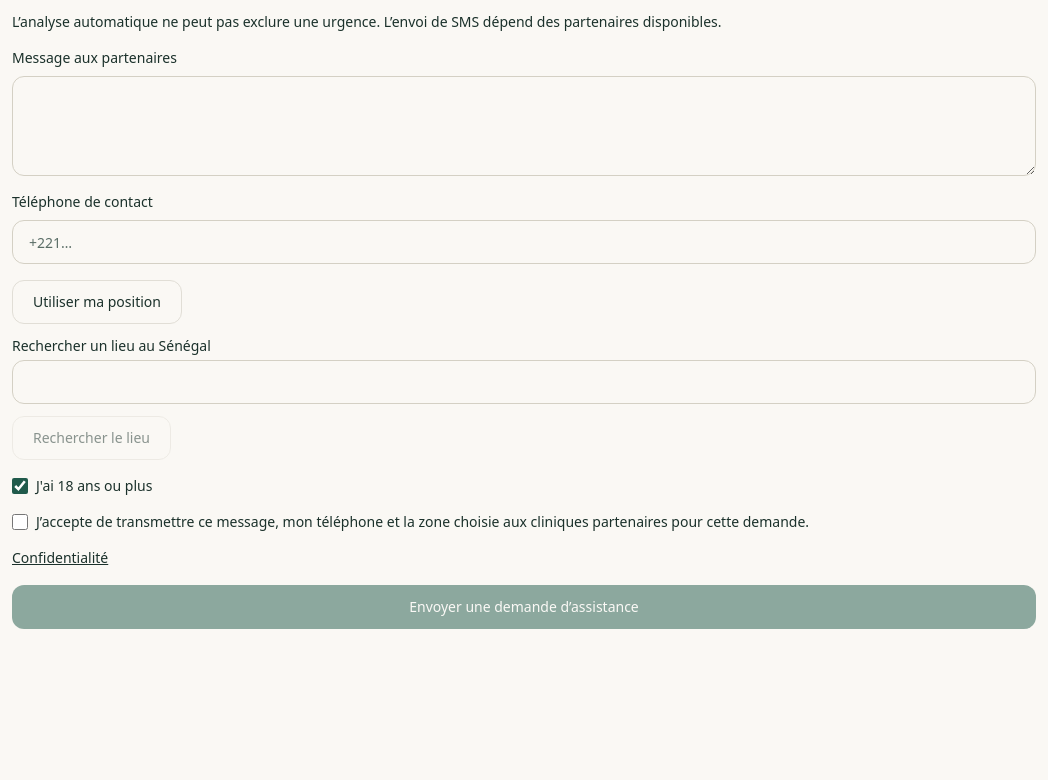
Test: patient emergency notification wording › reports accepted messages as unconfirmed rather than delivered
Type "Test" into the text box labelled "Message aux partenaires". click: coordinates (524, 126)
box: x1=12 y1=76 x2=1036 y2=176
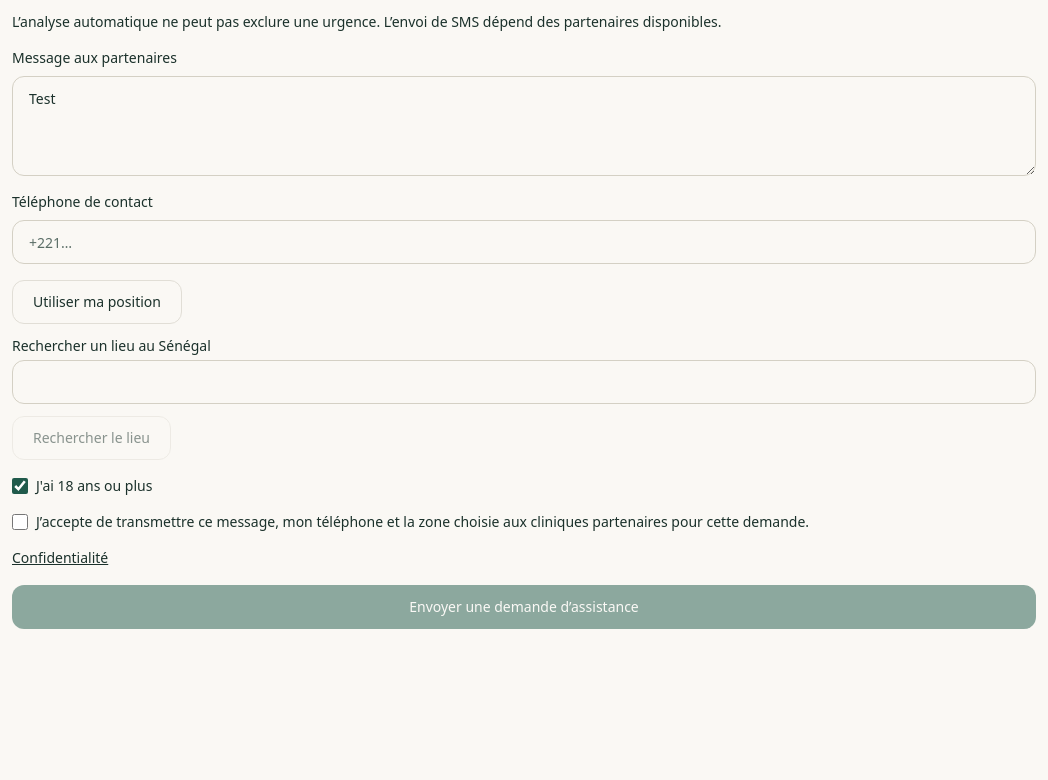
Type "+221771234567" into the field labelled "Téléphone de contact". click: coordinates (524, 242)
box: x1=12 y1=220 x2=1036 y2=264
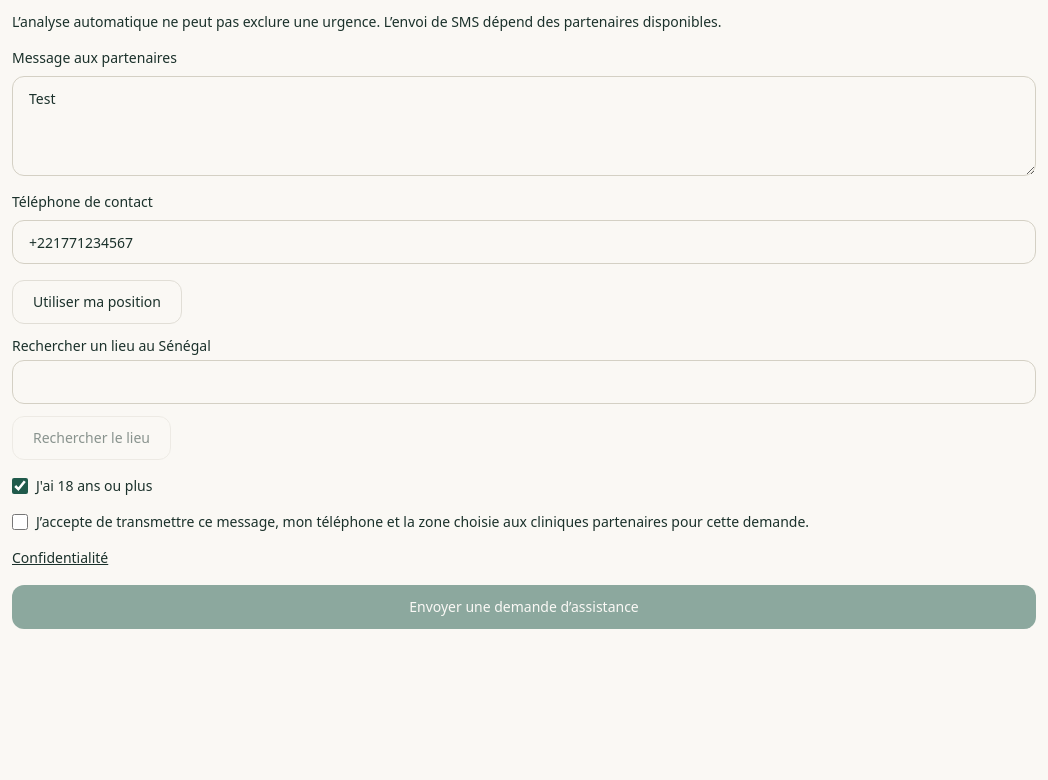
Click the 2nd checkbox. click: coordinates (20, 522)
box: x1=12 y1=514 x2=28 y2=530
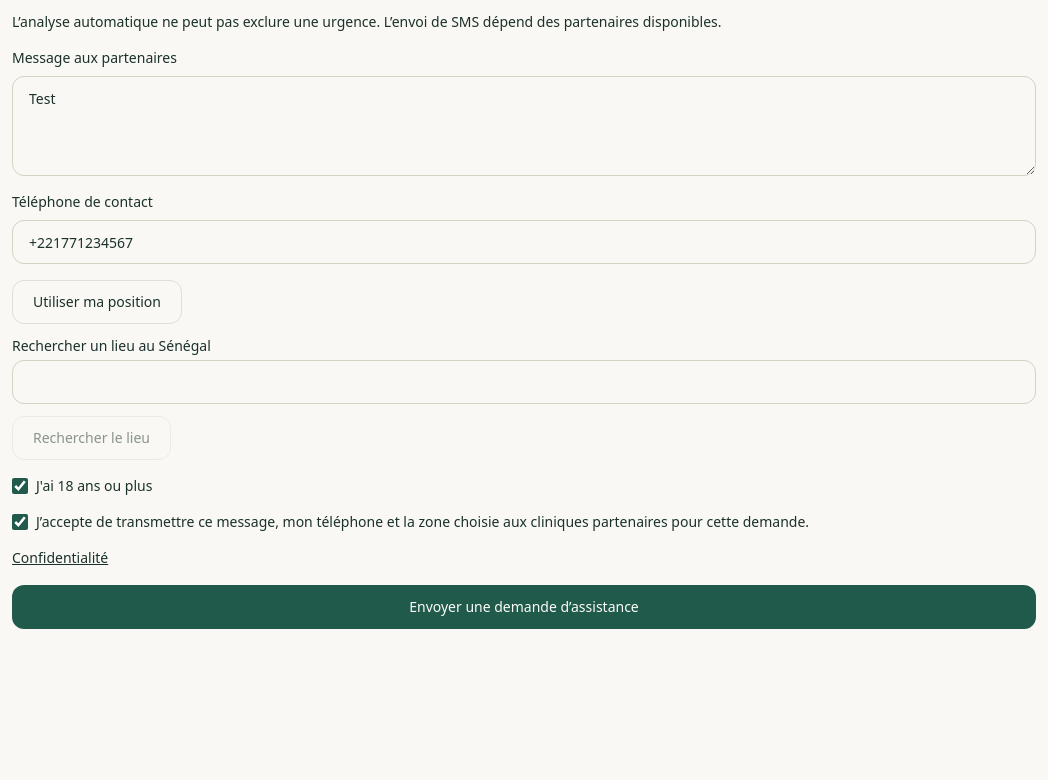
Click the button "Envoyer une demande d’assistance". click: coordinates (524, 607)
box: x1=12 y1=585 x2=1036 y2=629
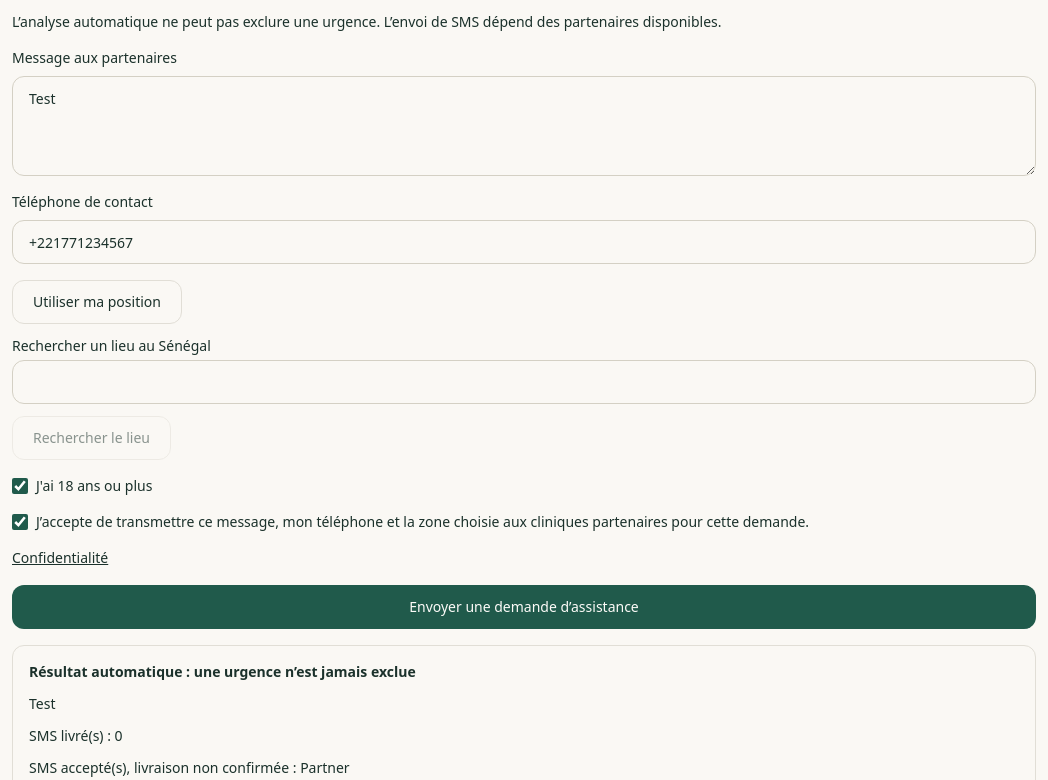
Expected: the text "SMS accepté(s), livraison non confirmée : Partner" is shown, x1=29 y1=758 x2=350 y2=777
